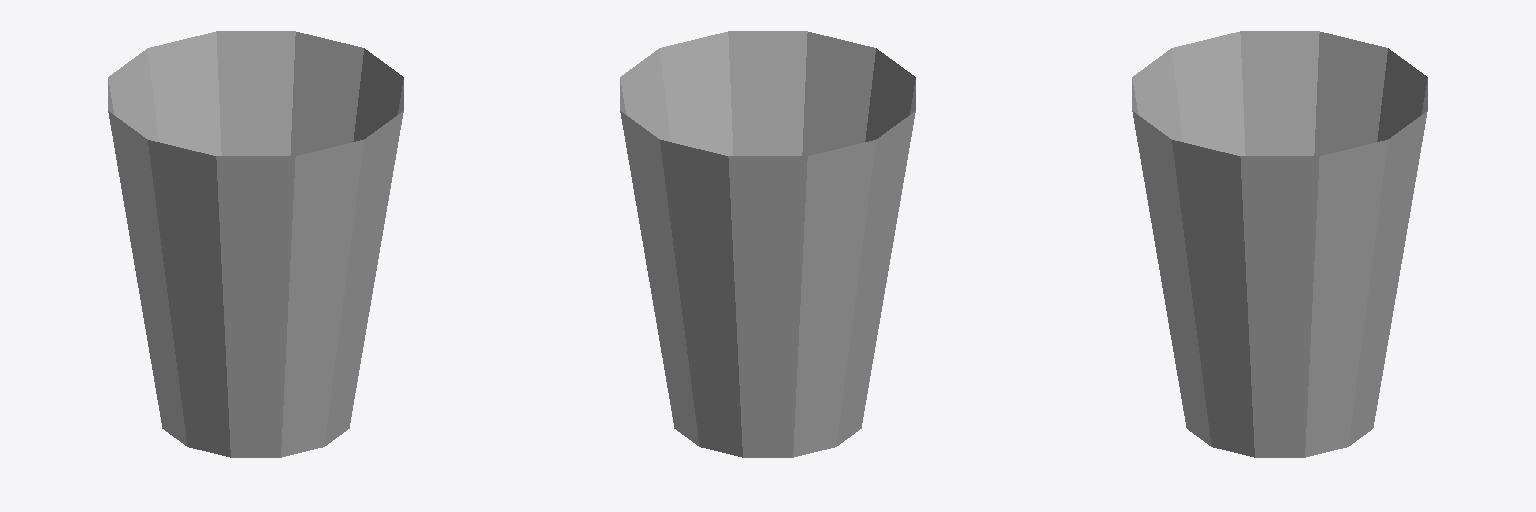
Rendered from housesp_090.obj.
The picture shows the model from 3 angles: view 1: azimuth 30°, elevation 25°; view 2: azimuth 150°, elevation 25°; view 3: azimuth 270°, elevation 25°; orthographic projection.
Bounding box in the file's own units: 5.58 × 6.74 × 5.57.